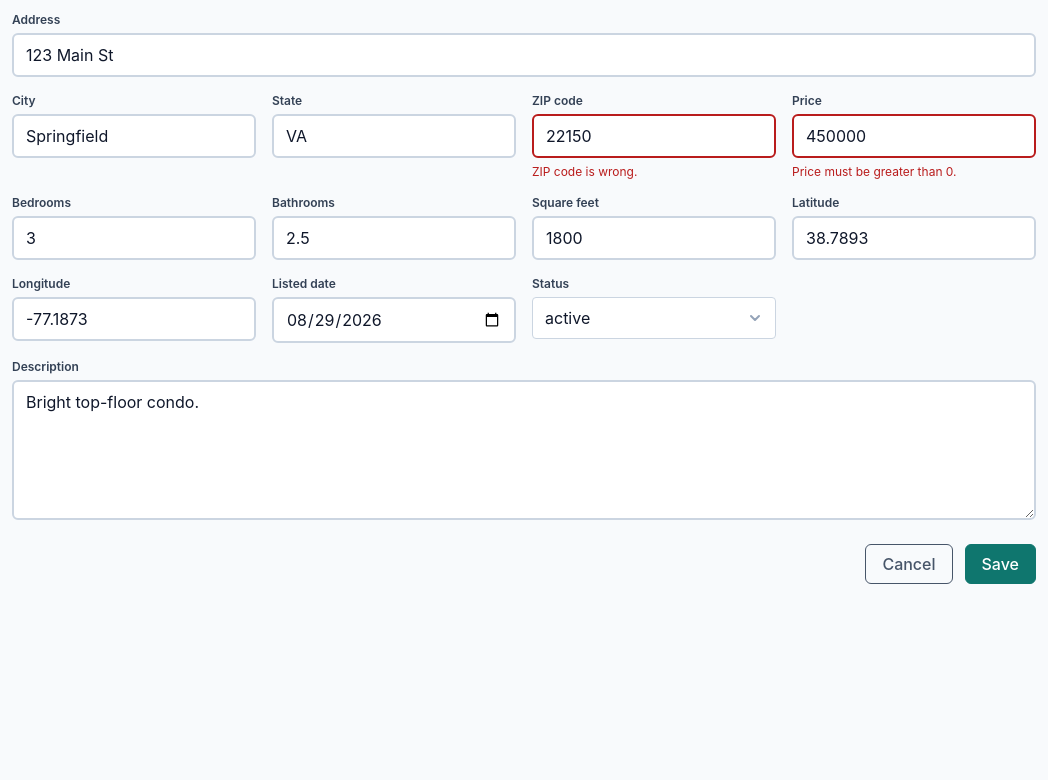
Test case: ListingFormComponent › server errors › clears a message when the user edits that field
The width and height of the screenshot is (1048, 780).
In the number field labelled "Price Price must be greater than 0.": (914, 136) [792,114,1036,158], type "460000"
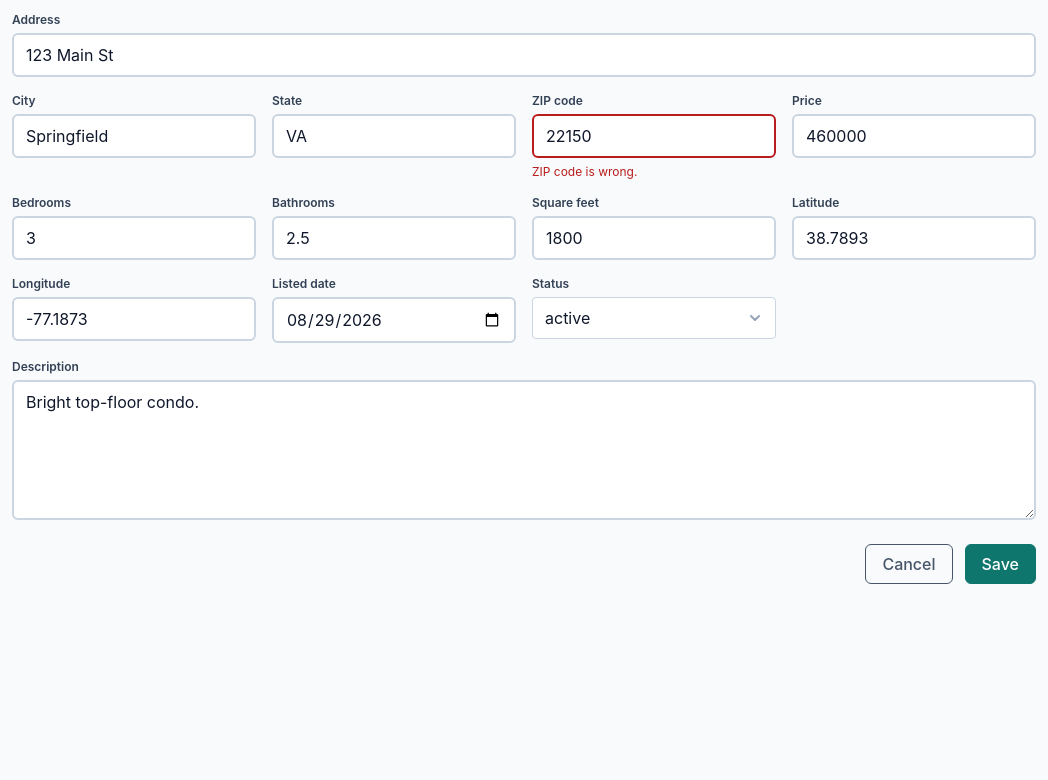
Expected: the text "ZIP code is wrong." is shown, [532,164,637,179]
Now the text "Price must be greater than 0." is gone
